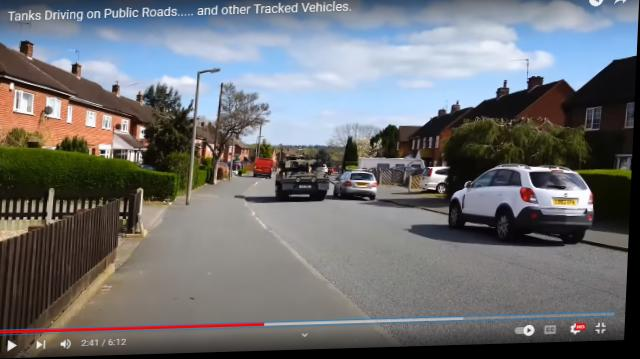tank: (280, 158, 329, 203)
